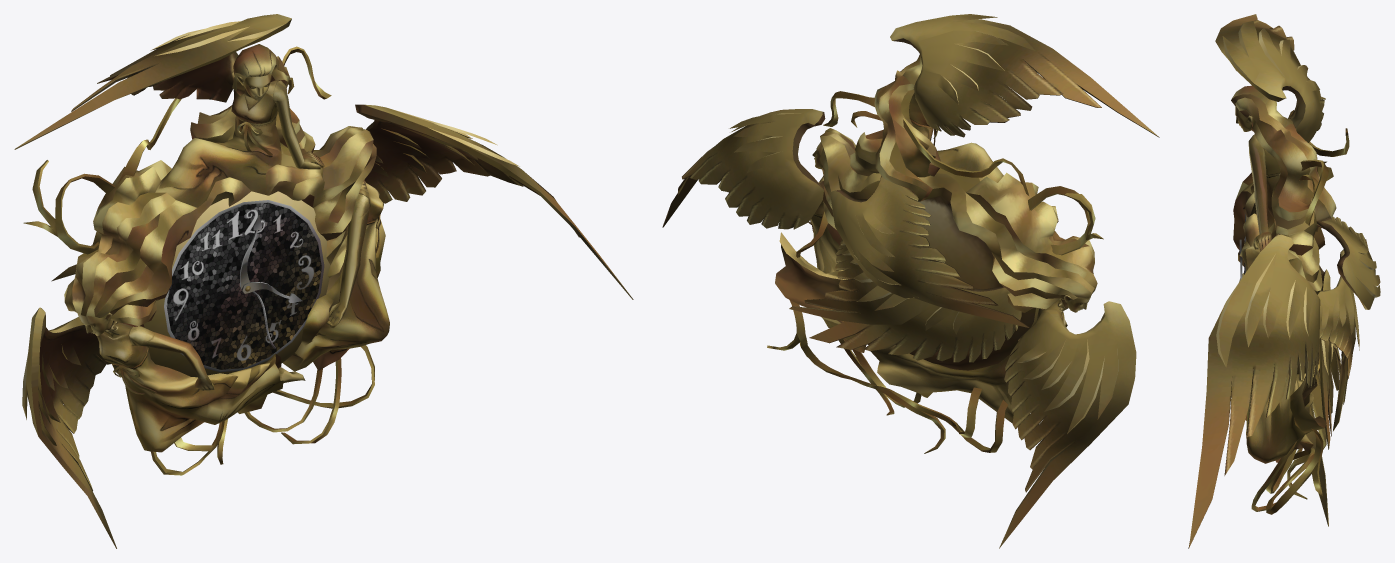
The model's file is Norn2.obj.
The picture shows the model from 3 angles, left to right: view 1: azimuth 30°, elevation 25°; view 2: azimuth 150°, elevation 25°; view 3: azimuth 270°, elevation 25°; orthographic projection. The views are drawn at different scales.
Parts seen in each view (by area): view 1: SK_dev022.001; view 2: SK_dev022.001; view 3: SK_dev022.001.
Boxes of the visible parts, x1,y1,x2,y2 form: SK_dev022.001: [14, 14, 633, 548]; SK_dev022.001: [662, 14, 1159, 548]; SK_dev022.001: [1188, 14, 1380, 548].
Bounding box in the file's own units: 3.25 × 2.84 × 0.9568.
